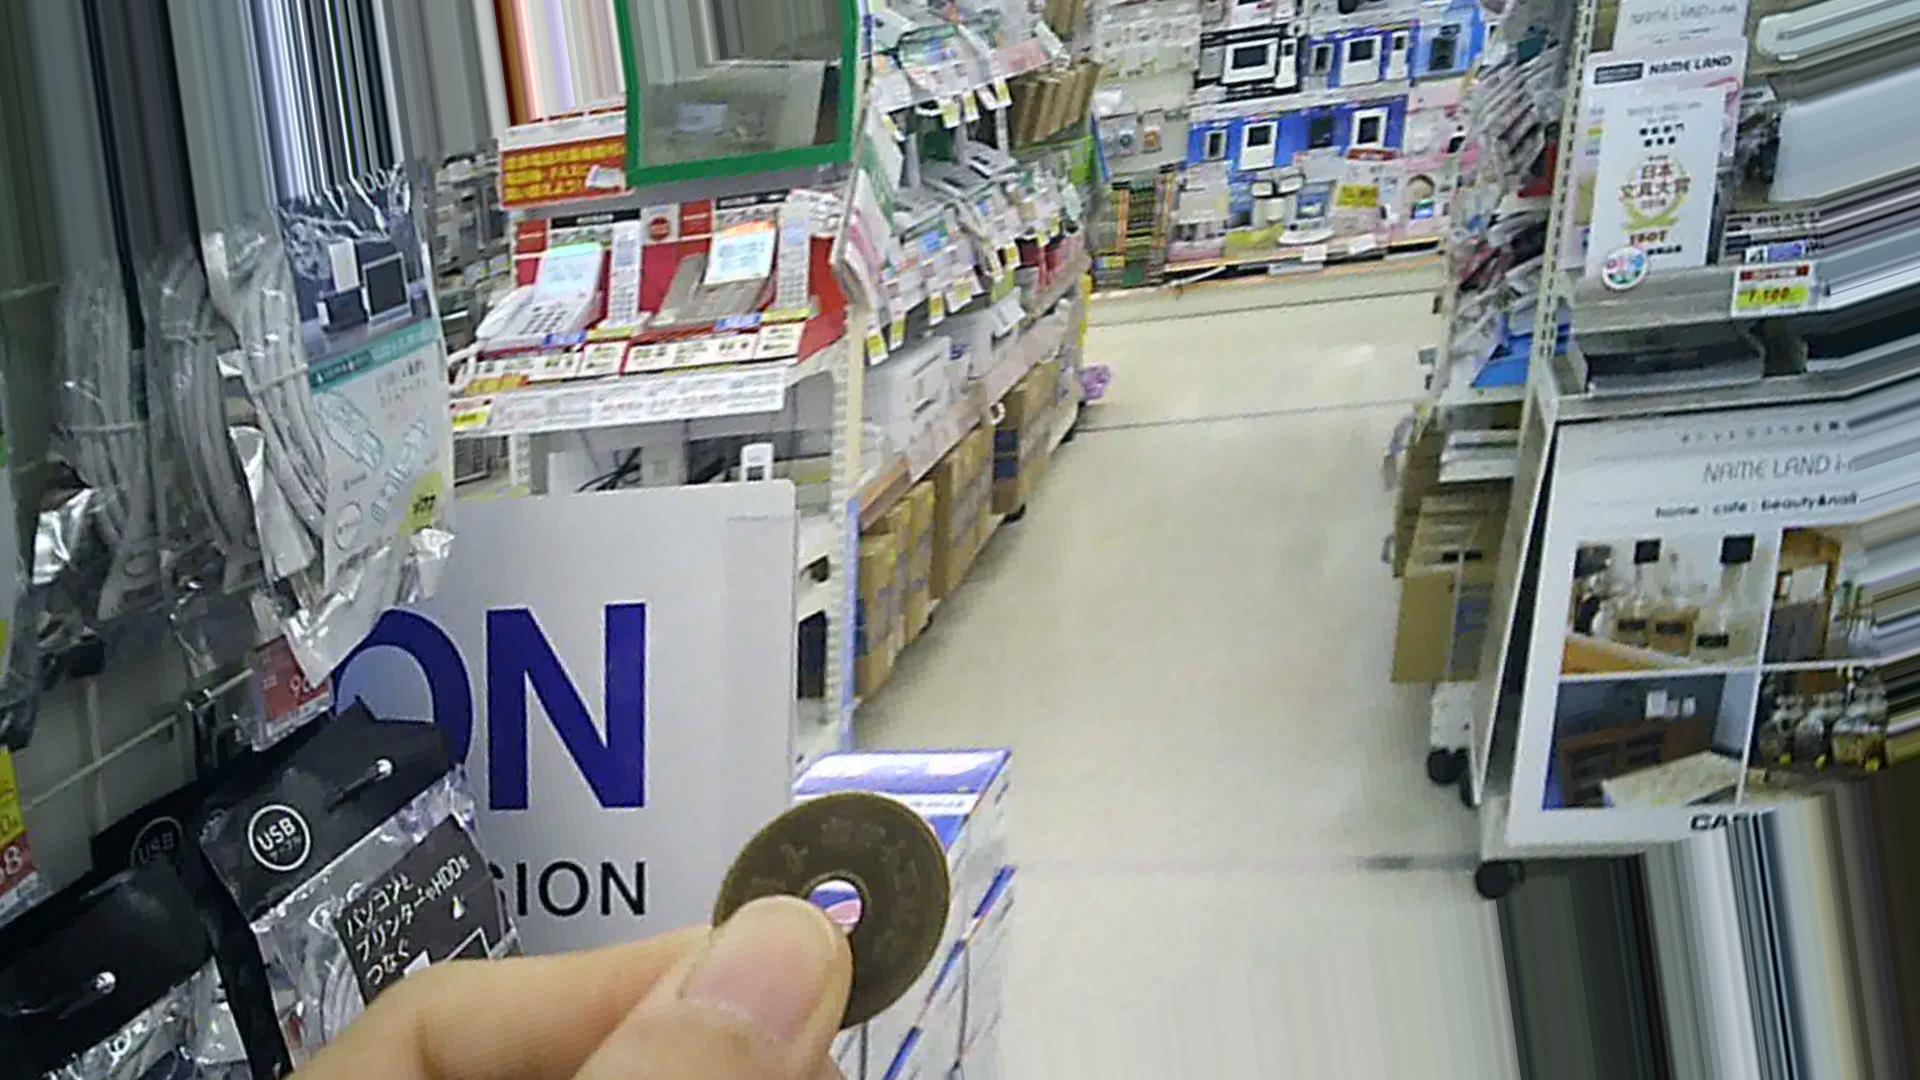5 Yen: (700, 789, 960, 1048)
